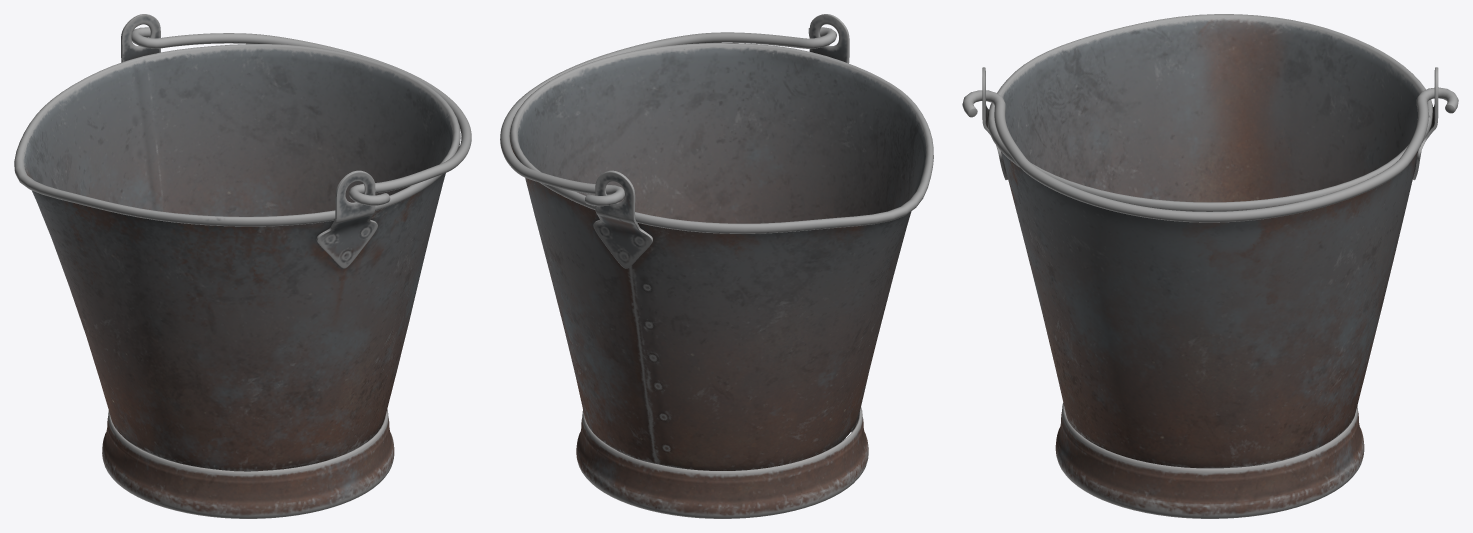
Rendered from bucket_kelch_rusty.glb.
3 renders of one model, left to right at view 1: azimuth 30°, elevation 25°; view 2: azimuth 150°, elevation 25°; view 3: azimuth 270°, elevation 25°, orthographic. The views are drawn at different scales.
Parts seen in each view (by area): view 1: Object_3, Object_2; view 2: Object_3, Object_2; view 3: Object_3, Object_2.
Boxes of the visible parts, bbox=[...] form: Object_3: bbox=[14, 44, 460, 471]; Object_2: bbox=[102, 14, 471, 518]; Object_3: bbox=[510, 43, 933, 470]; Object_2: bbox=[500, 14, 868, 518]; Object_3: bbox=[987, 14, 1433, 468]; Object_2: bbox=[962, 67, 1458, 518].
Bounding box in the file's own units: 0.3807 × 0.3311 × 0.3863.
1 material, 1 textured.
